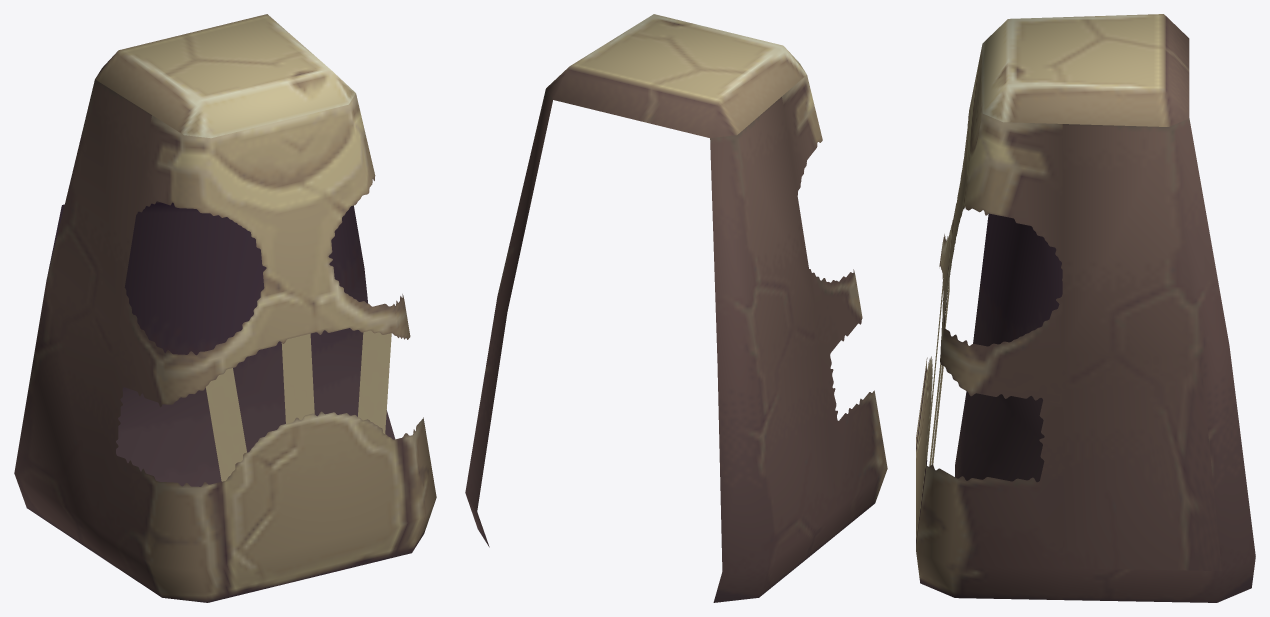
3 views of the same model, side by side, from view 1: azimuth 30°, elevation 25°; view 2: azimuth 150°, elevation 25°; view 3: azimuth 270°, elevation 25° (orthographic). The views are drawn at different scales.
Parts seen in each view (by area): view 1: totem.grimtotem_01-MeshNodes["grim_totem"]; view 2: totem.grimtotem_01-MeshNodes["grim_totem"]; view 3: totem.grimtotem_01-MeshNodes["grim_totem"].
Part boxes in pixels (x1,y1,x2,y2): totem.grimtotem_01-MeshNodes["grim_totem"]: [14, 14, 436, 602]; totem.grimtotem_01-MeshNodes["grim_totem"]: [465, 14, 887, 602]; totem.grimtotem_01-MeshNodes["grim_totem"]: [916, 14, 1255, 602].
Size of the model in its own units: 0.8886 by 1.3 by 0.8318.
1 material, 1 textured.
